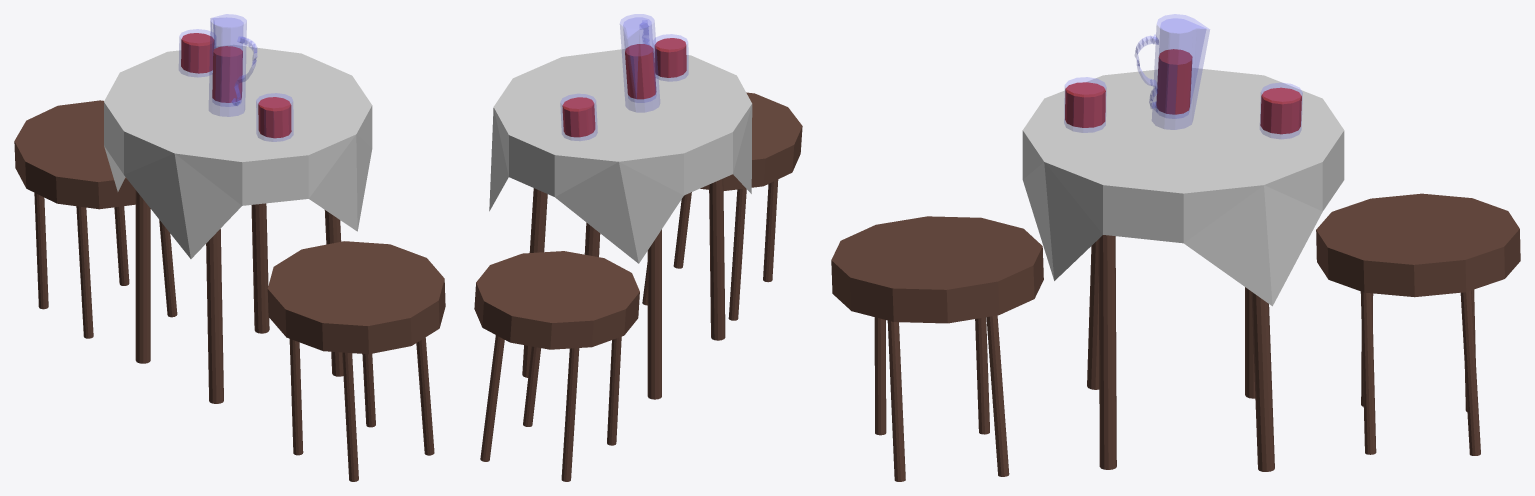
The model's file is table.glb.
3 views of the same model, side by side, from view 1: azimuth 30°, elevation 25°; view 2: azimuth 150°, elevation 25°; view 3: azimuth 270°, elevation 25° (orthographic). The views are drawn at different scales.
Visible parts, largest first — view 1: node_MeshObject1346093056-PolyPaper21, node_MeshObject1918172160-PolyGlass24; view 2: node_MeshObject1346093056-PolyPaper21, node_MeshObject1918172160-PolyGlass24; view 3: node_MeshObject1346093056-PolyPaper21, node_MeshObject1918172160-PolyGlass24.
Boxes of the visible parts, x1,y1,x2,y2 form: node_MeshObject1346093056-PolyPaper21: (14,33,445,481); node_MeshObject1918172160-PolyGlass24: (179,14,293,141); node_MeshObject1346093056-PolyPaper21: (474,38,802,481); node_MeshObject1918172160-PolyGlass24: (560,14,688,140); node_MeshObject1346093056-PolyPaper21: (831,49,1520,481); node_MeshObject1918172160-PolyGlass24: (1064,14,1302,138).
Size of the model in its own units: 0.3518 by 0.5429 by 0.8088.
